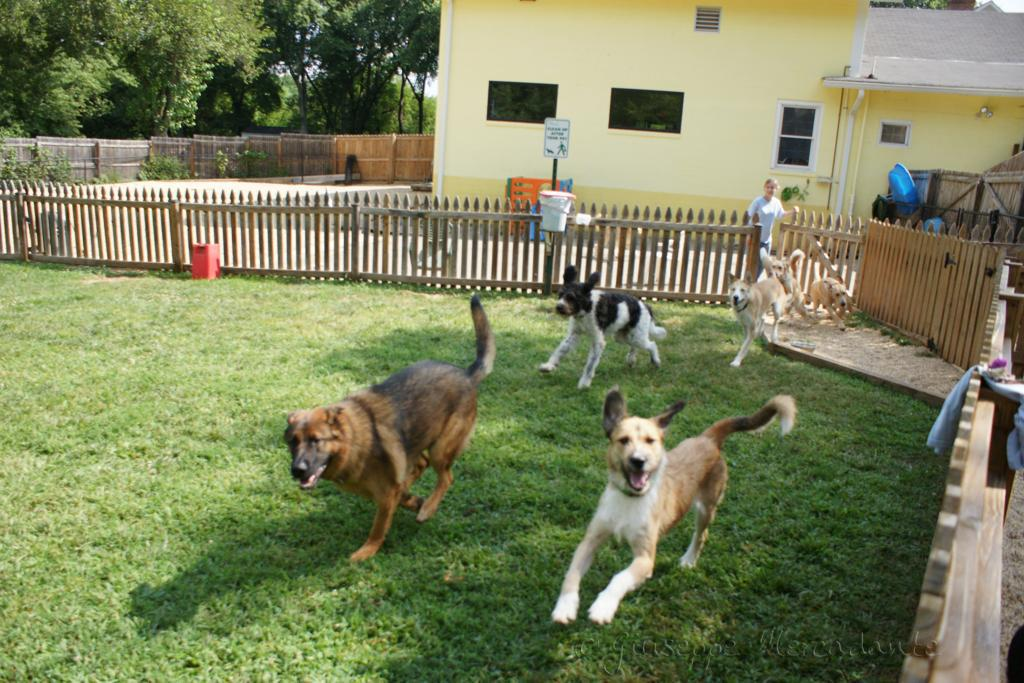face: (765, 183, 776, 197)
